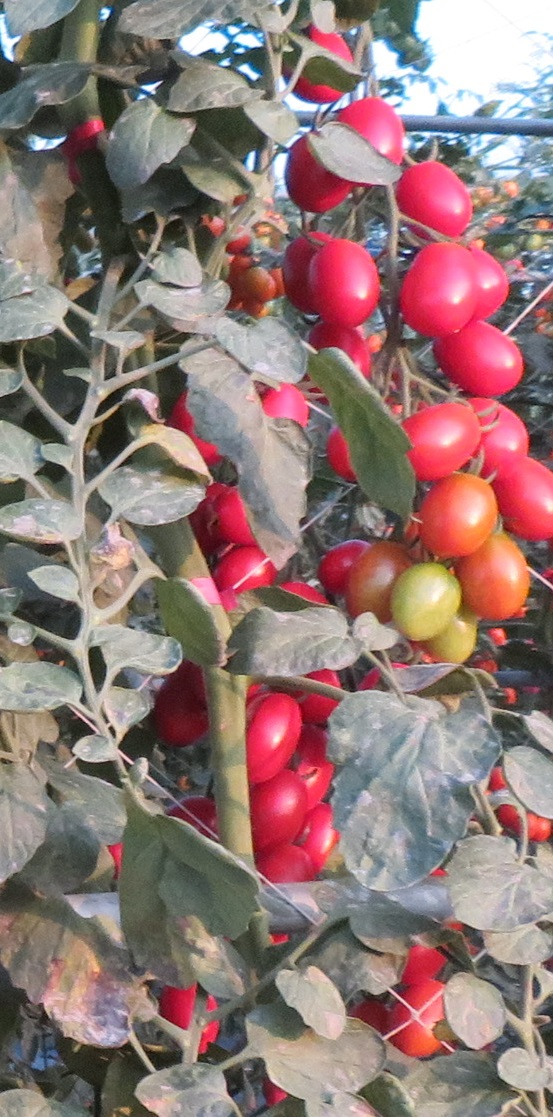green: (387, 567, 467, 645), (429, 615, 482, 665)
orange: (417, 470, 498, 560), (463, 538, 525, 619)
red: (400, 236, 482, 345), (424, 324, 525, 403), (394, 396, 488, 478), (241, 685, 315, 785), (305, 232, 385, 318), (251, 758, 321, 851), (398, 166, 476, 241), (494, 459, 553, 540)
